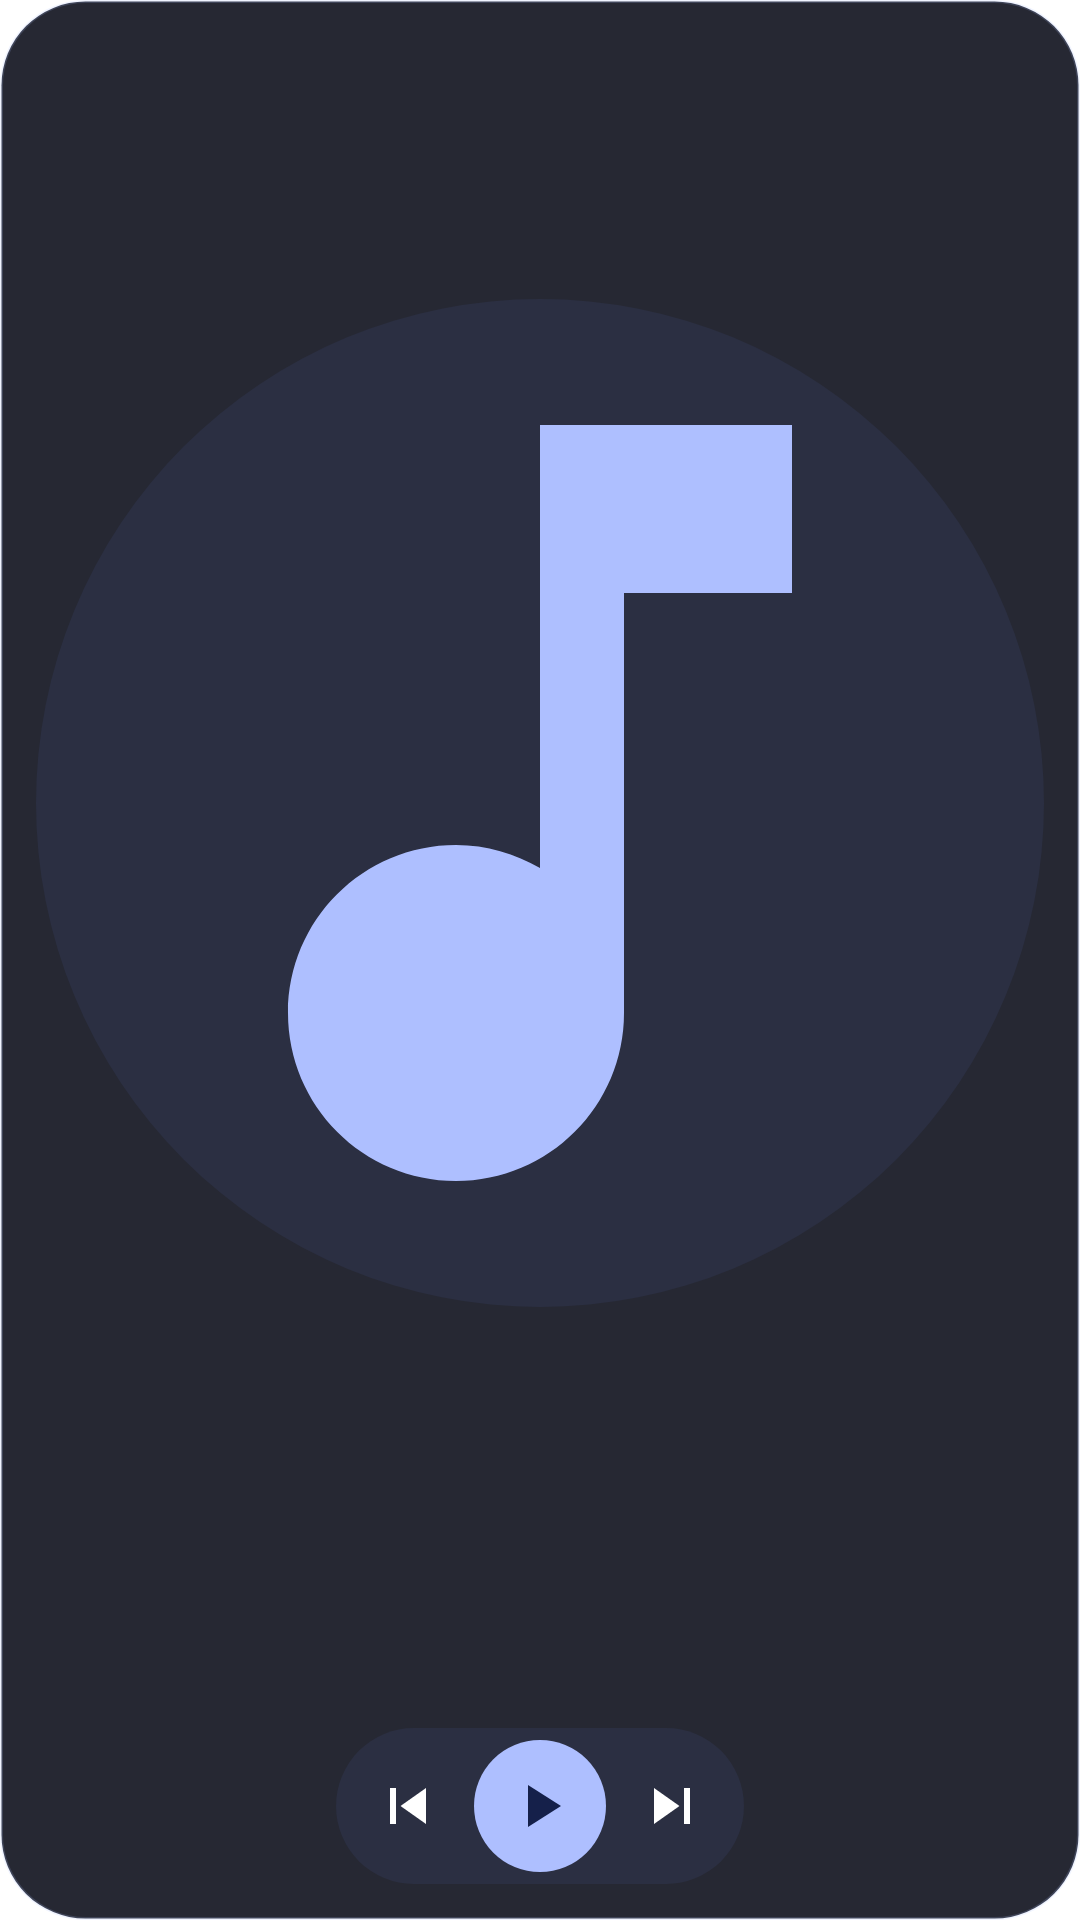

Icon click points for this 1080px x 1920px phone screenshot, format [x,y]:
Next: [672,1806]
Play: [540,1806]
Previous: [408,1806]
